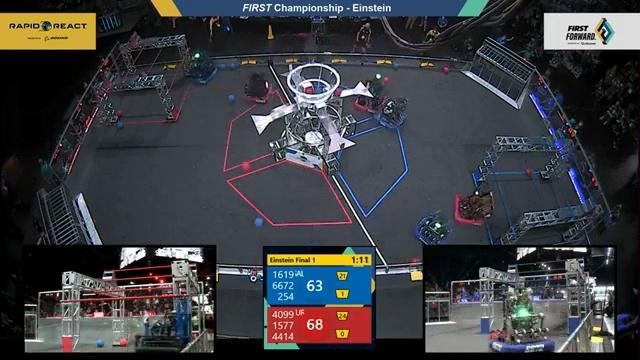robot: (490, 286, 554, 353), (454, 192, 495, 227), (375, 93, 410, 131), (354, 73, 384, 116), (413, 212, 451, 245), (183, 51, 218, 86), (245, 71, 272, 104), (490, 331, 537, 341)
